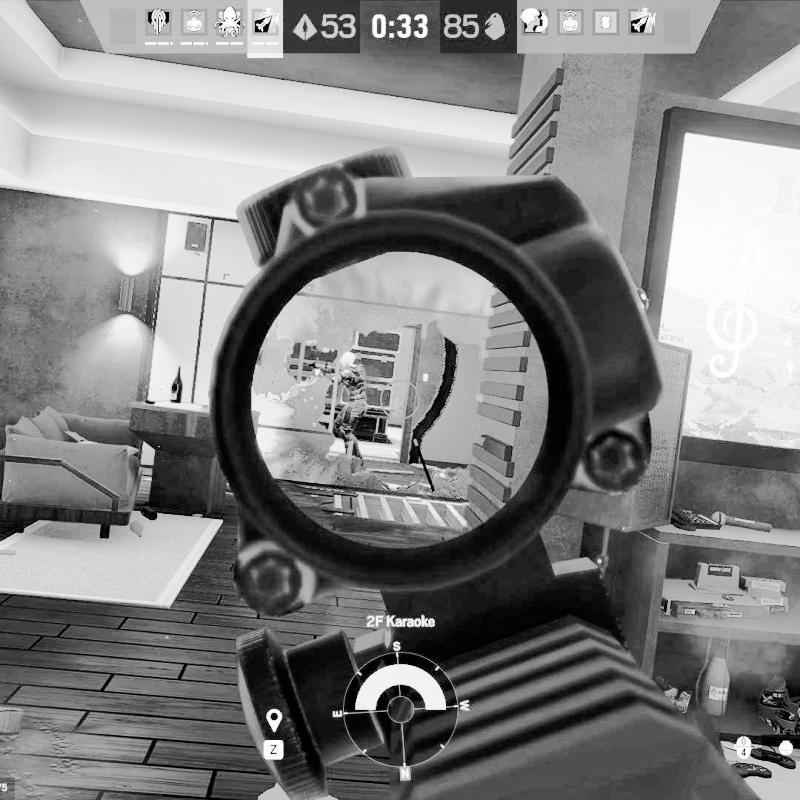Character: (330, 349, 372, 464)
Head: (338, 351, 358, 369)
